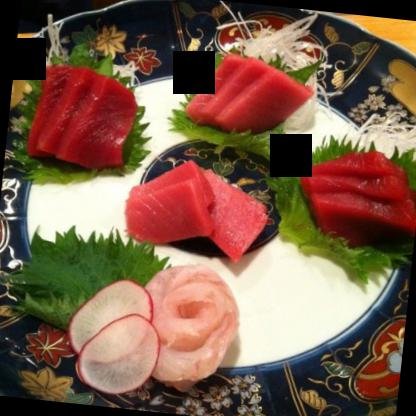tuna: (116, 154, 272, 266), (20, 60, 142, 177), (297, 146, 415, 252), (185, 50, 318, 138)
